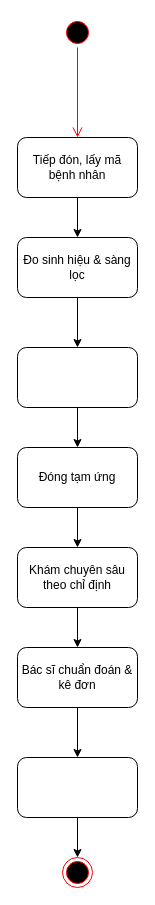
The diagram is 155 pixels wide and 905 high, and some of its shapes have lost their labels. The box of each missing label's shape, as (x1, y1, x2, y2) in pixels:
Bác sĩ khám sơ bộ, chỉ định: (16, 346, 138, 408)
Quyết toán hoá đơn & nhận thuốc: (16, 756, 138, 818)
